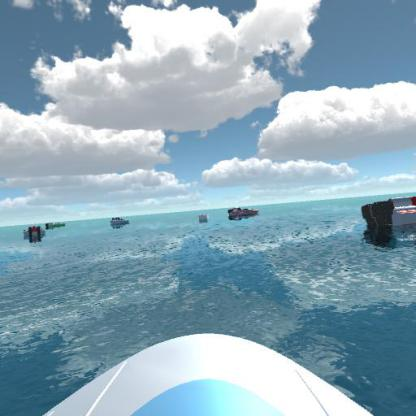usv0: (42, 216, 70, 233)
usv1: (110, 214, 134, 230)
usv3: (358, 195, 415, 245), (18, 223, 50, 245), (224, 204, 261, 222)
